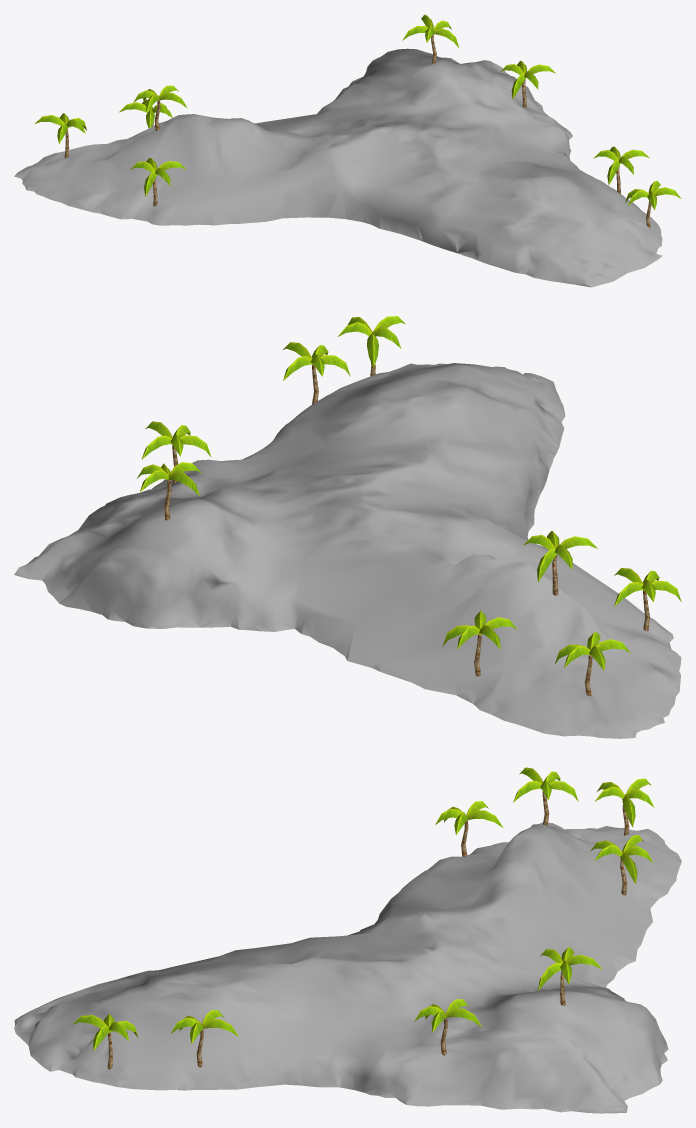
Rendered from desert_island_04.fbx.
3 views of the same model, one above another, from view 1: azimuth 30°, elevation 25°; view 2: azimuth 150°, elevation 25°; view 3: azimuth 270°, elevation 25° (orthographic). The views are drawn at different scales.
Parts seen in each view (by area): view 1: desert_island_04; view 2: desert_island_04; view 3: desert_island_04.
Part boxes in pixels (x1,y1,x2,y2): desert_island_04: (14,14,681,287); desert_island_04: (14,316,681,738); desert_island_04: (14,767,681,1113).
Bounding box in the file's own units: 0.7159 × 0.1345 × 0.7026.
2 materials, 1 textured.
